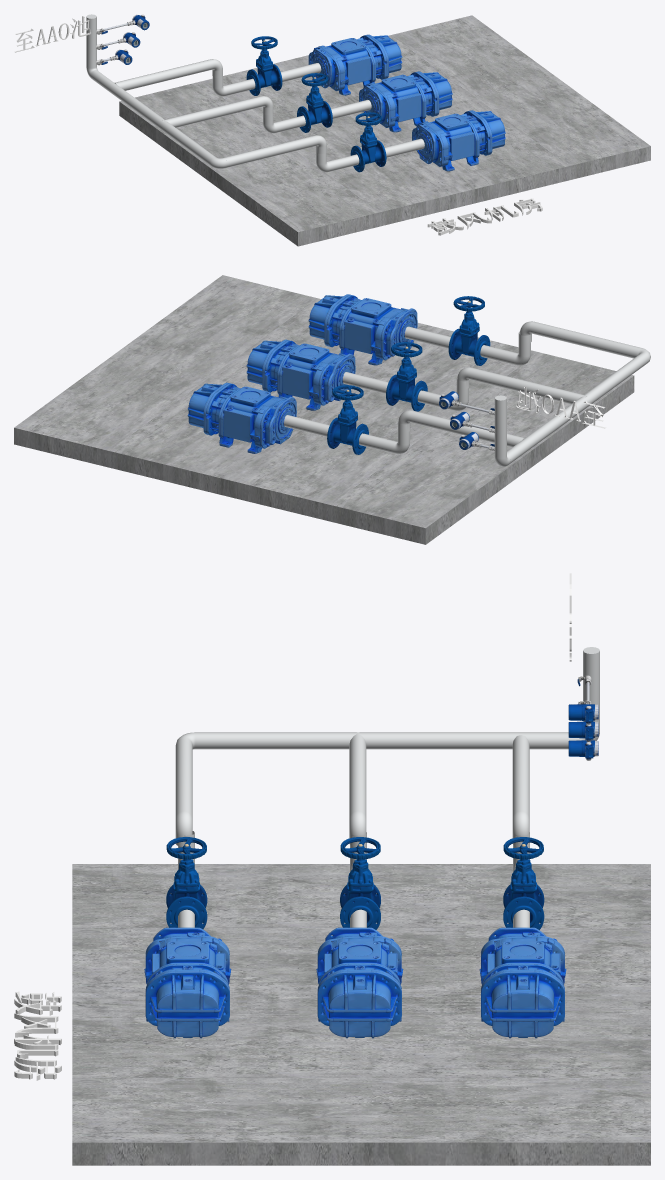
File: 鼓风机房.max1024.glb
3 renders of one model, top to bottom at view 1: azimuth 30°, elevation 25°; view 2: azimuth 150°, elevation 25°; view 3: azimuth 270°, elevation 25°, orthographic. The views are drawn at different scales.
Parts seen in each view (by area): view 1: Rectangle142, 1号鼓风机, 2号鼓风机, 3号鼓风机, Line015, Line012, Line014, 1号手动阀, 2号手动阀, 3号手动阀, Text008, Line010 (+5 smaller); view 2: Rectangle142, 3号鼓风机, 1号鼓风机, 2号鼓风机, Line015, 1号手动阀, 3号手动阀, 2号手动阀, Line012, Line010, Line009, Line013 (+5 smaller); view 3: Rectangle142, 1号鼓风机, 2号鼓风机, 3号鼓风机, Line015, Text008, 3号手动阀, 1号手动阀, 2号手动阀, Line012, Line014, Line010 (+1 smaller).
Boxes of the visible parts, x1,y1,x2,y2 form: Rectangle142: (119,15,650,246); 1号鼓风机: (412,110,505,171); 2号鼓风机: (359,71,452,132); 3号鼓风机: (308,34,402,95); Line015: (90,72,228,168); Line012: (162,96,273,127); Line014: (114,59,222,90); 1号手动阀: (350,112,386,172); 2号手动阀: (297,73,332,132); 3号手动阀: (246,36,282,95); Text008: (427,198,542,235); Line010: (225,135,326,167); Rectangle142: (14,275,634,544); 3号鼓风机: (187,382,296,453); 1号鼓风机: (308,294,417,365); 2号鼓风机: (246,339,355,410); Line015: (507,347,650,464); 1号手动阀: (448,296,490,365); 3号手动阀: (327,385,368,454); 2号手动阀: (386,342,427,411); Line012: (457,367,586,404); Line010: (520,321,639,357); Line009: (404,326,530,365); Line013: (284,415,409,454); Rectangle142: (72,864,650,1165); 1号鼓风机: (144,927,231,1038); 2号鼓风机: (316,927,403,1038); 3号鼓风机: (479,927,566,1038); Line015: (175,732,568,749); Text008: (14,991,61,1080); 3号手动阀: (503,837,544,929); 1号手动阀: (166,837,207,929); 2号手动阀: (340,837,380,929); Line012: (349,732,366,846); Line014: (512,735,529,846); Line010: (175,739,192,846).
Size of the model in its own units: 10.63 by 2.93 by 7.51.
6 materials, 4 textured.
